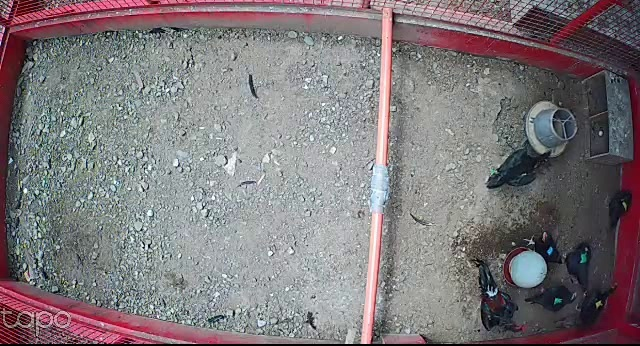Chicken: (480, 145, 553, 196), (569, 281, 621, 337), (562, 237, 597, 291), (523, 285, 581, 314), (600, 187, 633, 234), (524, 230, 566, 265)
Feeder: (523, 100, 578, 157)
Rooster: (468, 248, 529, 336)
Saddle_Color_Blue: (546, 247, 554, 256)
Saddle_Color_Yellow: (595, 300, 604, 311)
